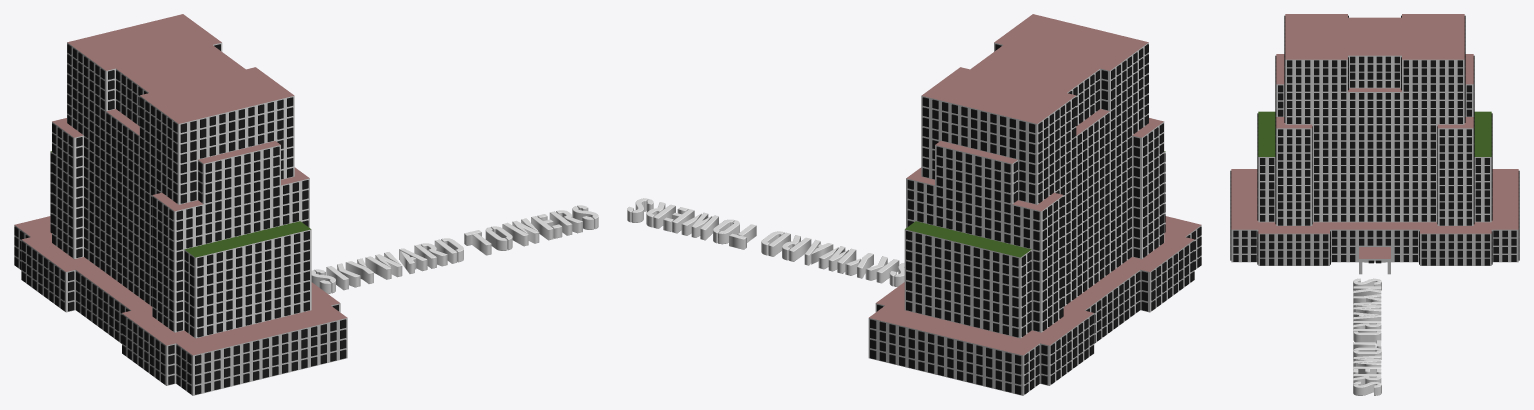
Rendered from building2.fbx.
The picture shows the model from 3 angles, left to right: view 1: azimuth 30°, elevation 25°; view 2: azimuth 150°, elevation 25°; view 3: azimuth 270°, elevation 25°; orthographic projection. The views are drawn at different scales.
Visible parts, largest first — view 1: Base2-Windows, Base2, FirstLayer-Top, Base-Windows, Base, Base3-Windows, FirstLayer-Windows, Text, Base-Top, FirstLayer, Base3, Base2-Top2 (+2 smaller); view 2: Base2-Windows, Base2, FirstLayer-Top, Base-Windows, Base, Base3-Windows, FirstLayer-Windows, Base-Top, Text, FirstLayer, Base3, Base2-Top2 (+2 smaller); view 3: Base2-Windows, Base2, FirstLayer-Top, Base-Windows, Base-Top, Base, Base3-Windows, FirstLayer-Windows, Base3, FirstLayer, Text, Base2-Top2 (+2 smaller).
Part boxes in pixels (x1,y1,x2,y2): Base2-Windows: [50, 123, 309, 337]; Base2: [50, 122, 311, 338]; FirstLayer-Top: [67, 14, 294, 123]; Base-Windows: [14, 226, 346, 394]; Base: [14, 225, 347, 395]; Base3-Windows: [67, 84, 293, 203]; FirstLayer-Windows: [67, 44, 293, 163]; Text: [311, 205, 598, 293]; Base-Top: [14, 216, 347, 355]; FirstLayer: [67, 42, 294, 164]; Base3: [67, 83, 294, 204]; Base2-Top2: [51, 151, 310, 257]; Base2-Windows: [906, 123, 1165, 337]; Base2: [904, 122, 1165, 338]; FirstLayer-Top: [922, 14, 1148, 123]; Base-Windows: [870, 226, 1201, 394]; Base: [868, 225, 1201, 395]; Base3-Windows: [922, 84, 1148, 203]; FirstLayer-Windows: [922, 44, 1148, 163]; Base-Top: [869, 216, 1201, 355]; Text: [627, 198, 904, 286]; FirstLayer: [921, 42, 1148, 164]; Base3: [921, 83, 1148, 204]; Base2-Top2: [905, 151, 1165, 257]; Base2-Windows: [1257, 113, 1492, 225]; Base2: [1258, 124, 1491, 225]; FirstLayer-Top: [1285, 14, 1464, 59]; Base-Windows: [1230, 170, 1519, 265]; Base-Top: [1231, 169, 1518, 258]; Base: [1231, 229, 1518, 274]; Base3-Windows: [1275, 55, 1474, 123]; FirstLayer-Windows: [1284, 15, 1465, 91]; Base3: [1276, 84, 1473, 124]; FirstLayer: [1285, 55, 1464, 91]; Text: [1353, 278, 1381, 395]; Base2-Top2: [1258, 111, 1491, 156].
Bounding box in the file's own units: 2561 × 1227 × 1610.
